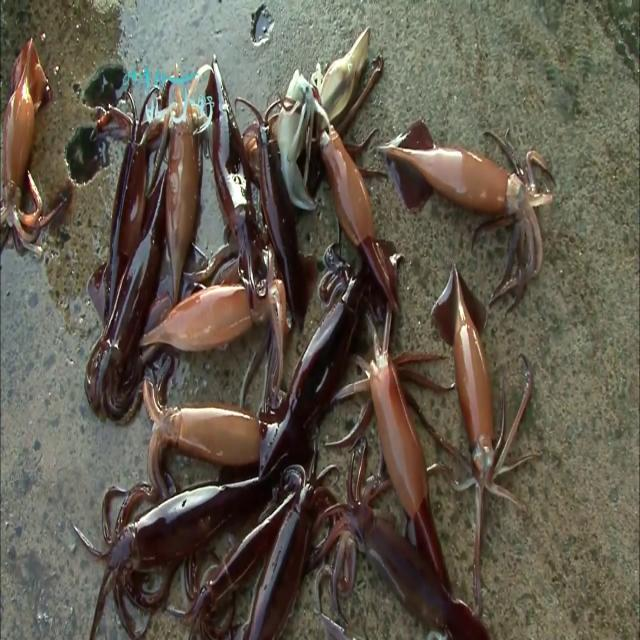squid: (74, 454, 292, 640), (426, 266, 541, 604), (324, 301, 458, 590), (306, 436, 492, 640), (309, 440, 490, 640), (377, 119, 558, 313), (258, 247, 380, 491), (85, 170, 174, 428), (231, 439, 341, 640), (180, 463, 304, 640), (86, 84, 170, 336), (235, 96, 322, 334), (139, 282, 289, 409), (203, 55, 271, 318), (148, 62, 214, 308), (318, 127, 400, 316), (140, 380, 266, 498), (0, 37, 51, 259)
